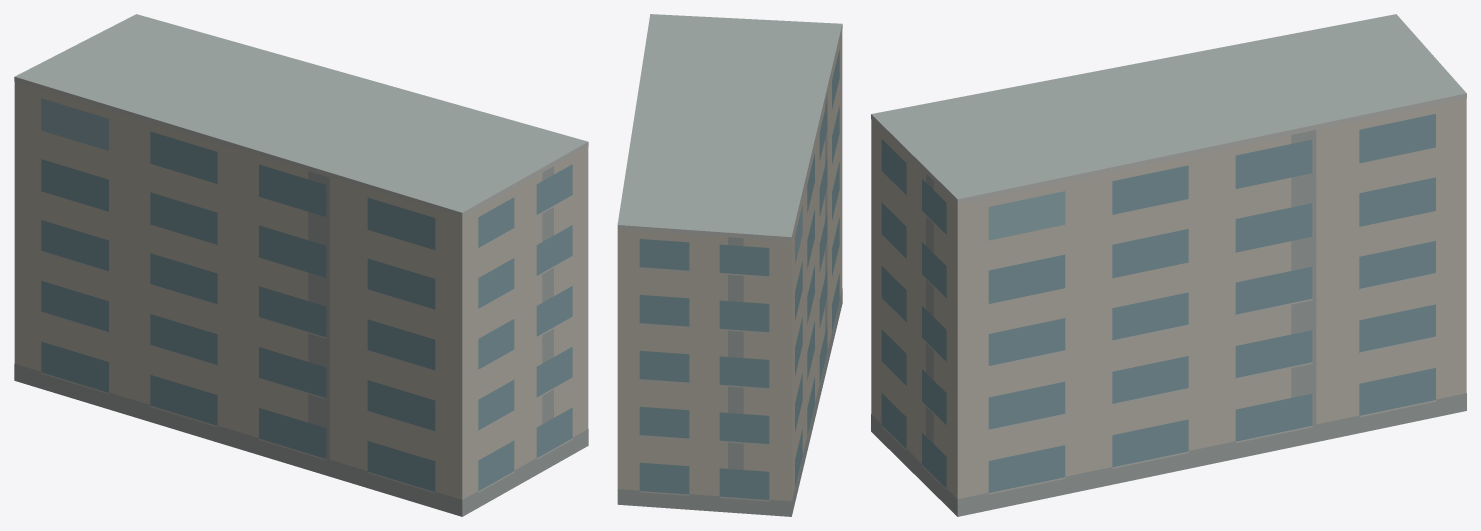
The model's file is survey-upis-32528439.glb.
3 views of the same model, side by side, from view 1: azimuth 30°, elevation 25°; view 2: azimuth 150°, elevation 25°; view 3: azimuth 270°, elevation 25° (orthographic). The views are drawn at different scales.
Visible parts, largest first — view 1: survey-upis-32528439.tmp; view 2: survey-upis-32528439.tmp; view 3: survey-upis-32528439.tmp.
Part boxes in pixels (x1=…): survey-upis-32528439.tmp: x1=14, y1=14, x2=588, y2=516; survey-upis-32528439.tmp: x1=617, y1=14, x2=842, y2=516; survey-upis-32528439.tmp: x1=871, y1=14, x2=1466, y2=516.
Size of the model in its own units: 18.92 by 15.1 by 25.68.
